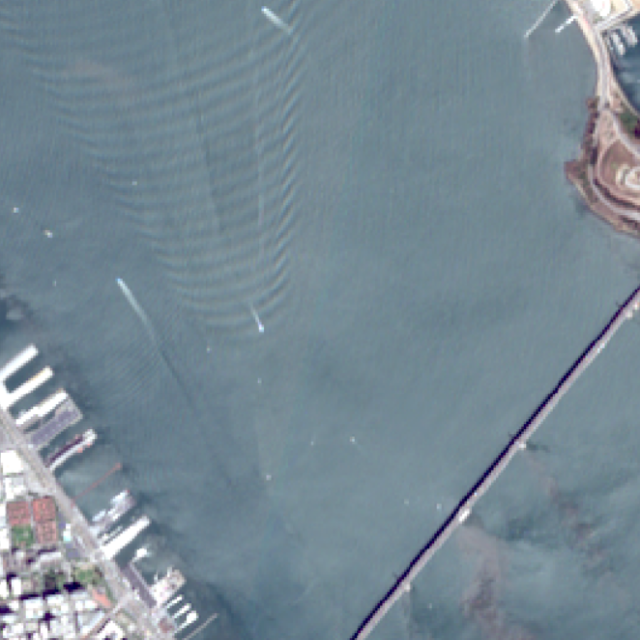wake: (122, 92, 320, 359)
